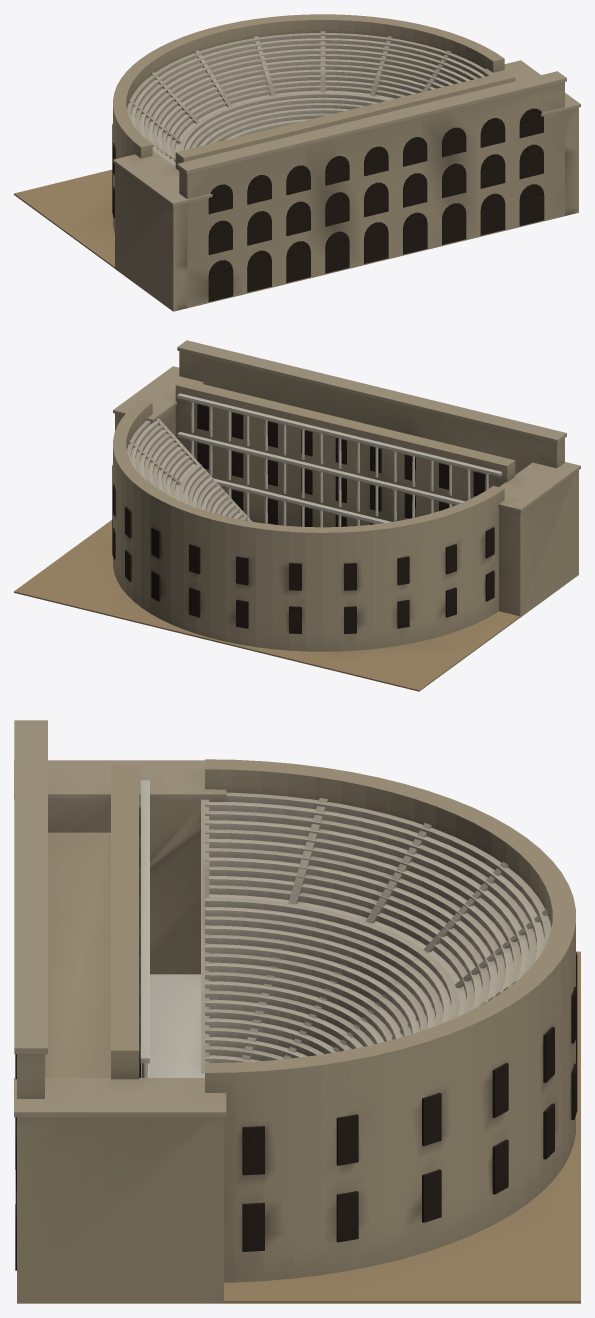
Rendered from odeon-herodes.glb.
The picture shows the model from 3 angles, top to bottom: view 1: azimuth 30°, elevation 25°; view 2: azimuth 150°, elevation 25°; view 3: azimuth 270°, elevation 25°; orthographic projection. The views are drawn at different scales.
Visible parts, largest first — view 1: p2_stage, p1_seats, p0_cavea; view 2: p0_cavea, p2_stage, p1_seats; view 3: p2_stage, p0_cavea, p1_seats.
Part boxes in pixels (box(x1,y1,x2,y2)): p2_stage: box(113, 60, 580, 311); p1_seats: box(112, 31, 485, 218); p0_cavea: box(14, 14, 504, 268); p0_cavea: box(14, 400, 520, 691); p2_stage: box(113, 340, 580, 617); p1_seats: box(112, 418, 494, 634); p2_stage: box(14, 720, 226, 1303); p0_cavea: box(45, 759, 580, 1303); p1_seats: box(201, 792, 577, 1251).
Size of the model in its own units: 88.6 by 28.73 by 60.34.
